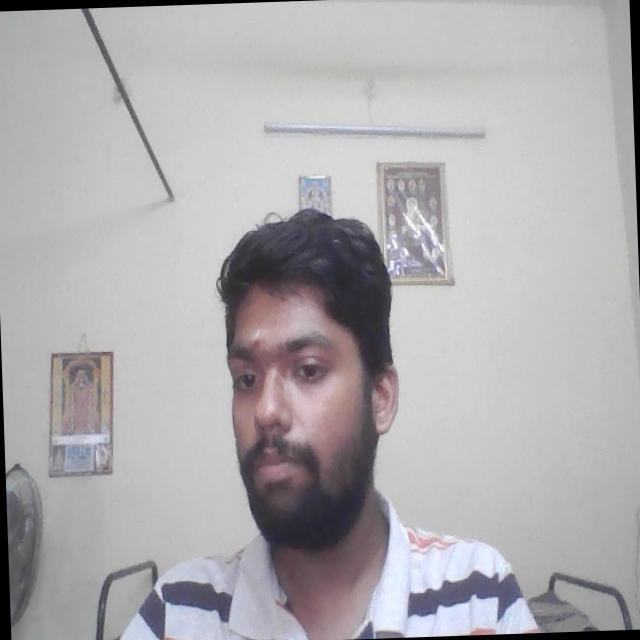Focused: (226, 305, 370, 515)
